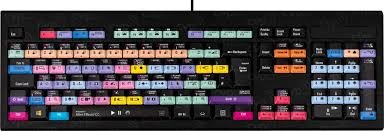keyboard: (4, 2, 379, 131)
